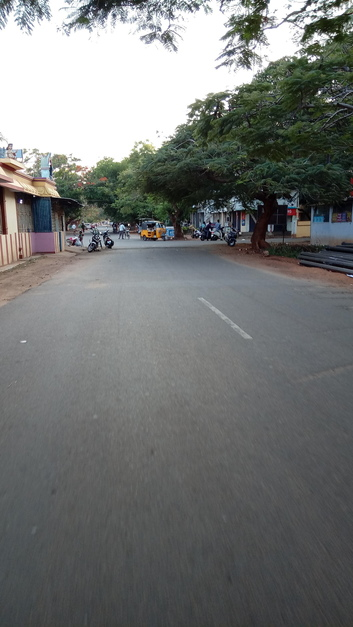bump: (98, 244, 208, 252)
